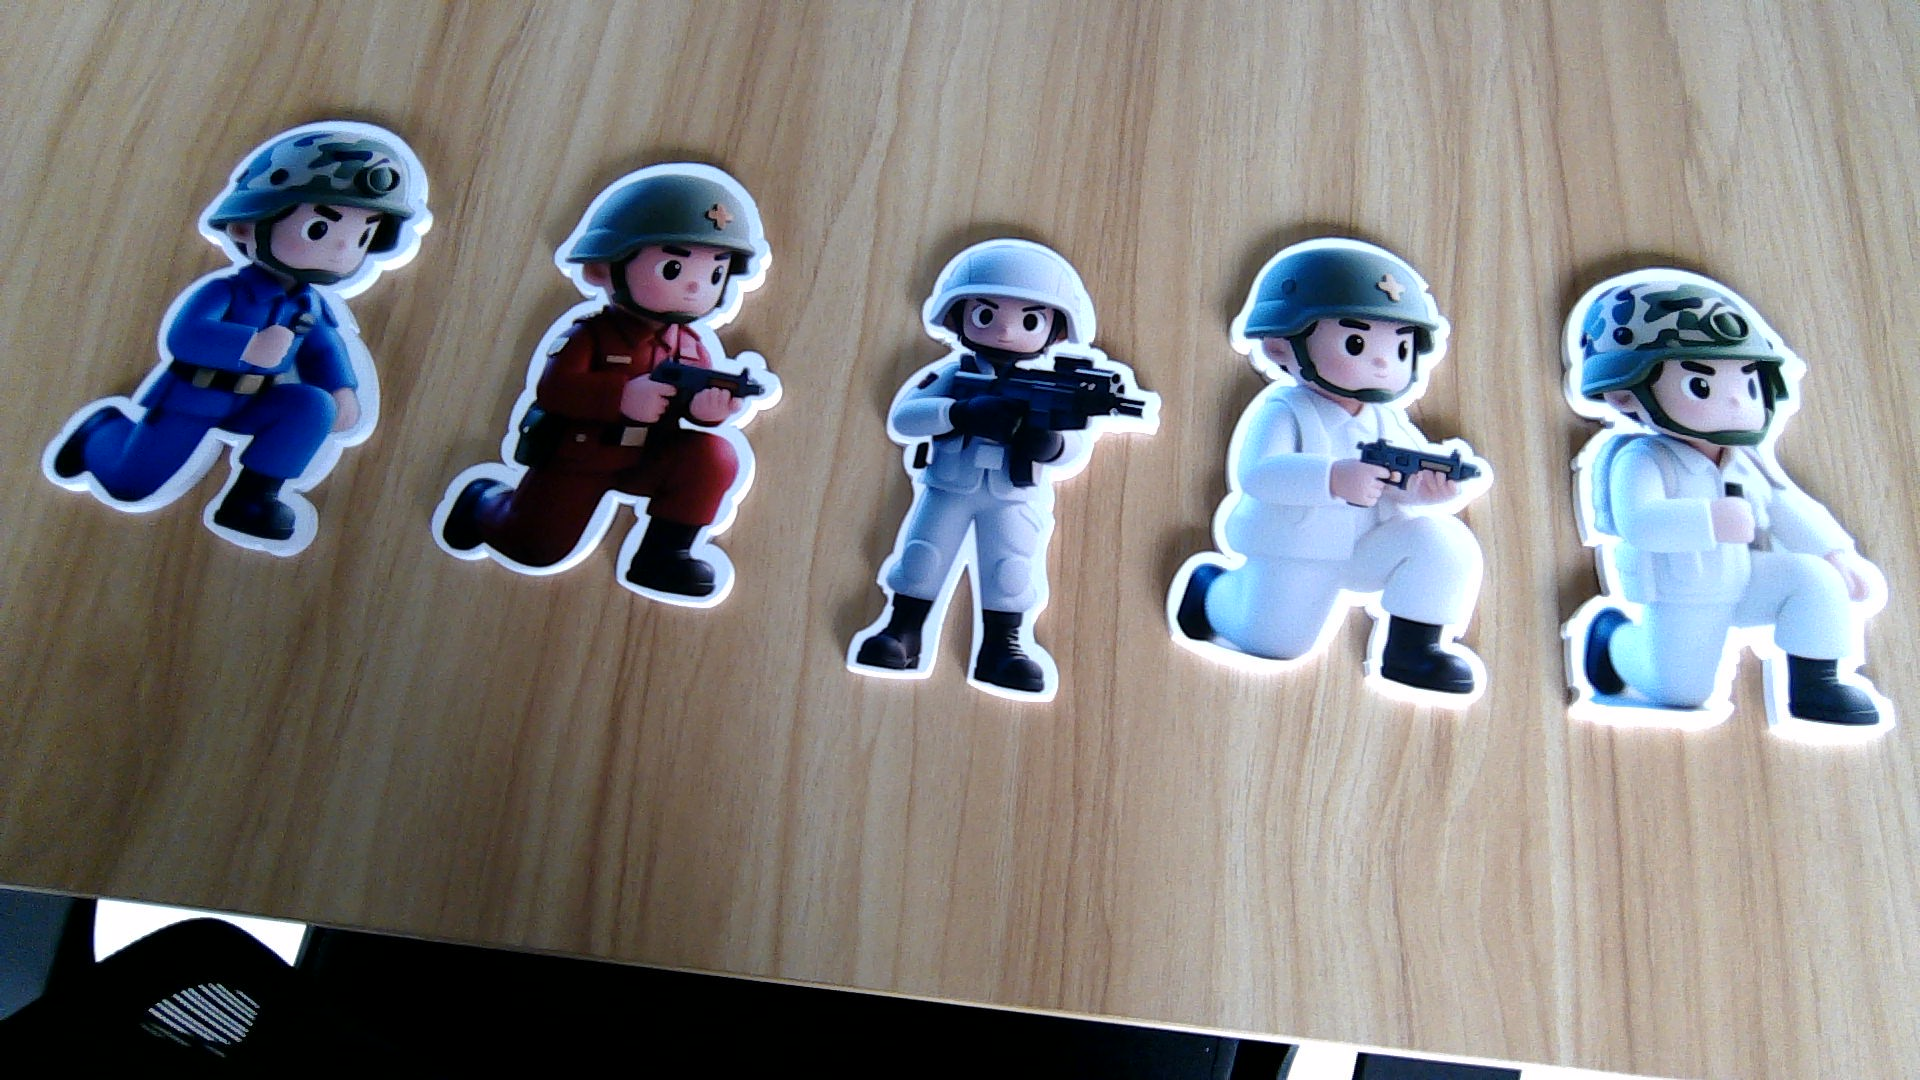人质: (1556, 440, 1902, 752), (836, 351, 1142, 702), (1166, 396, 1493, 702)
敌人1: (429, 313, 782, 615)
敌人2: (38, 276, 382, 555)
